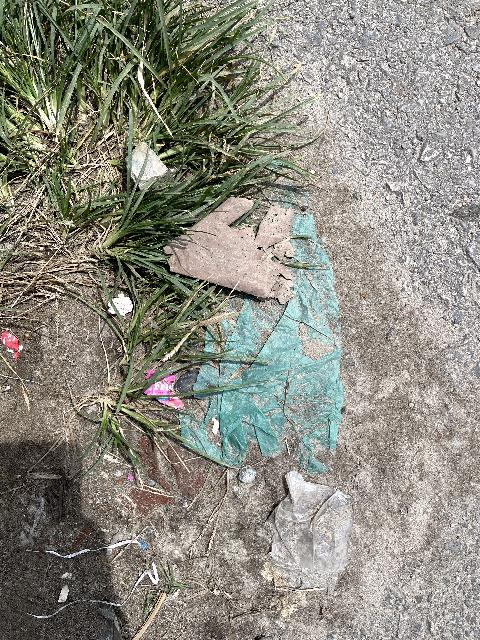polythene: (156, 214, 351, 488)
